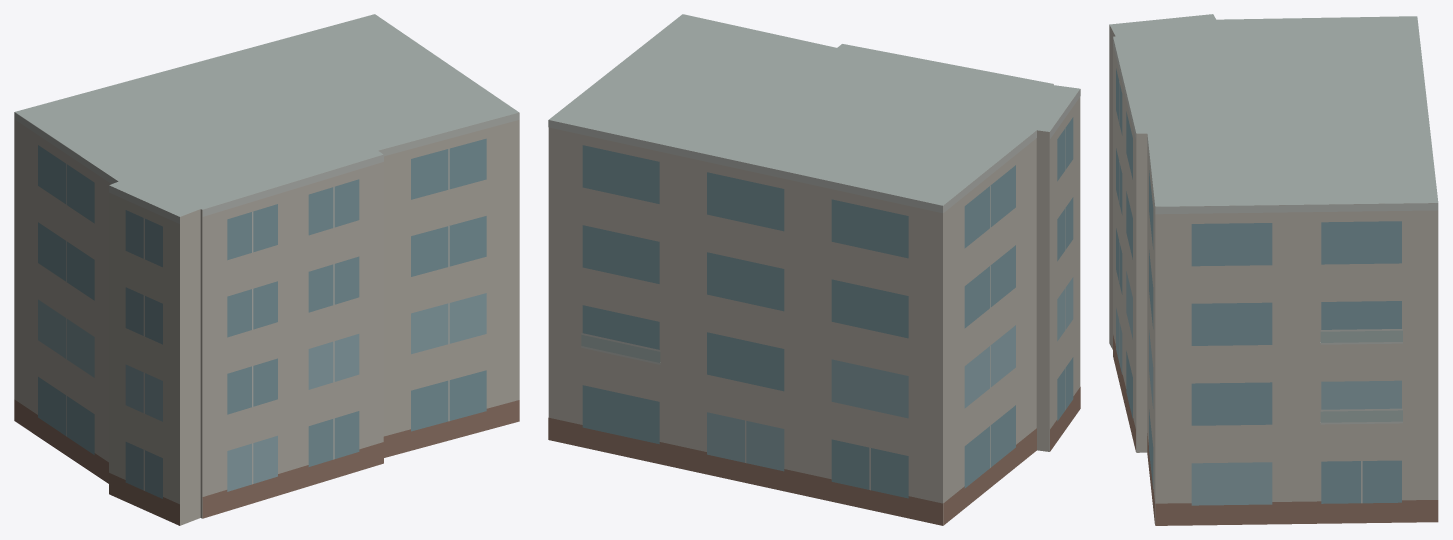
The model's file is survey-upis-32659608.glb.
3 views of the same model, side by side, from view 1: azimuth 30°, elevation 25°; view 2: azimuth 150°, elevation 25°; view 3: azimuth 270°, elevation 25° (orthographic). The views are drawn at different scales.
Parts seen in each view (by area): view 1: survey-upis-32659608.tmp; view 2: survey-upis-32659608.tmp; view 3: survey-upis-32659608.tmp.
Boxes of the visible parts, left/top/right/bottom form: survey-upis-32659608.tmp: left=14, top=14, right=519, bottom=525; survey-upis-32659608.tmp: left=548, top=14, right=1080, bottom=525; survey-upis-32659608.tmp: left=1109, top=14, right=1438, bottom=525.
Size of the model in its own units: 13.48 by 10.4 by 9.72.
